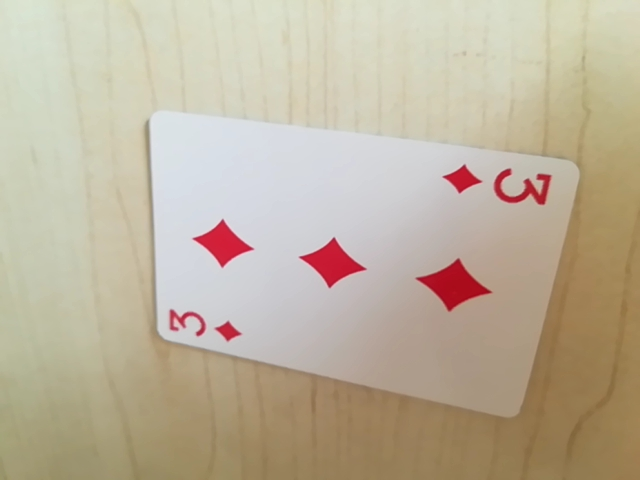fk 3: (441, 162, 556, 211), (162, 303, 246, 346)
